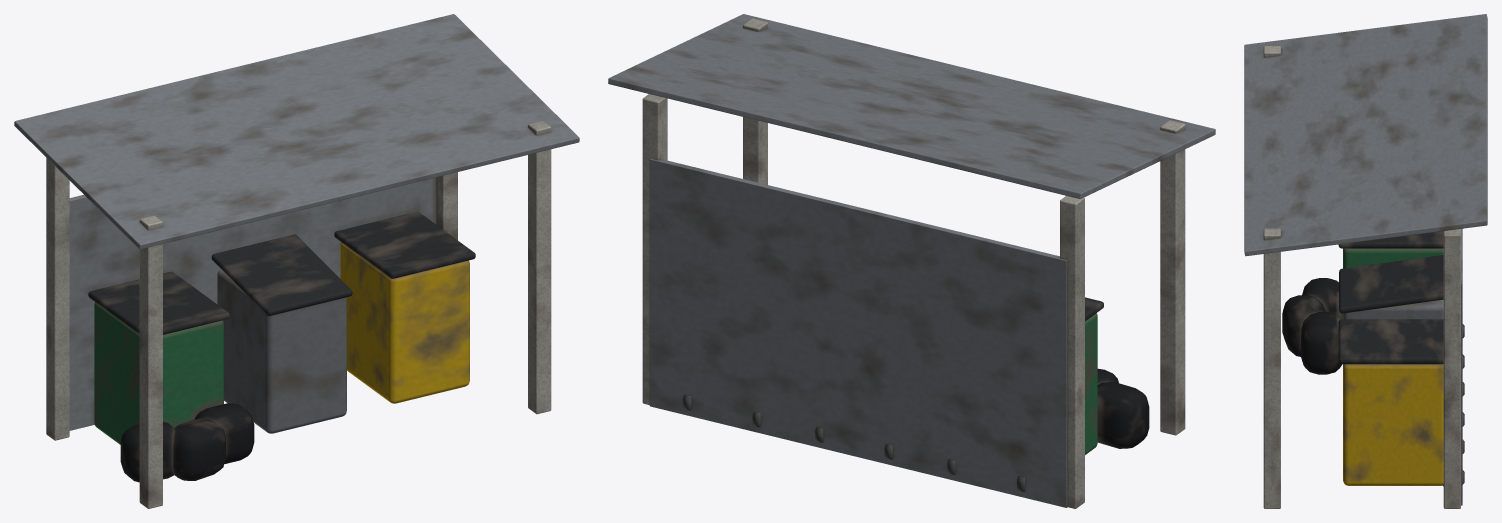
Rendered from pod_wiata.glb.
3 renders of one model, left to right at view 1: azimuth 30°, elevation 25°; view 2: azimuth 150°, elevation 25°; view 3: azimuth 270°, elevation 25°, orthographic. The views are drawn at different scales.
Parts seen in each view (by area): view 1: Wiata; view 2: Wiata; view 3: Wiata.
Part boxes in pixels (x1,y1,x2,y2): Wiata: (14, 14, 579, 508); Wiata: (608, 14, 1215, 508); Wiata: (1244, 14, 1487, 508).
Size of the model in its own units: 3.4 by 2.28 by 1.69.
Materials: 1 (1 with a texture image).
